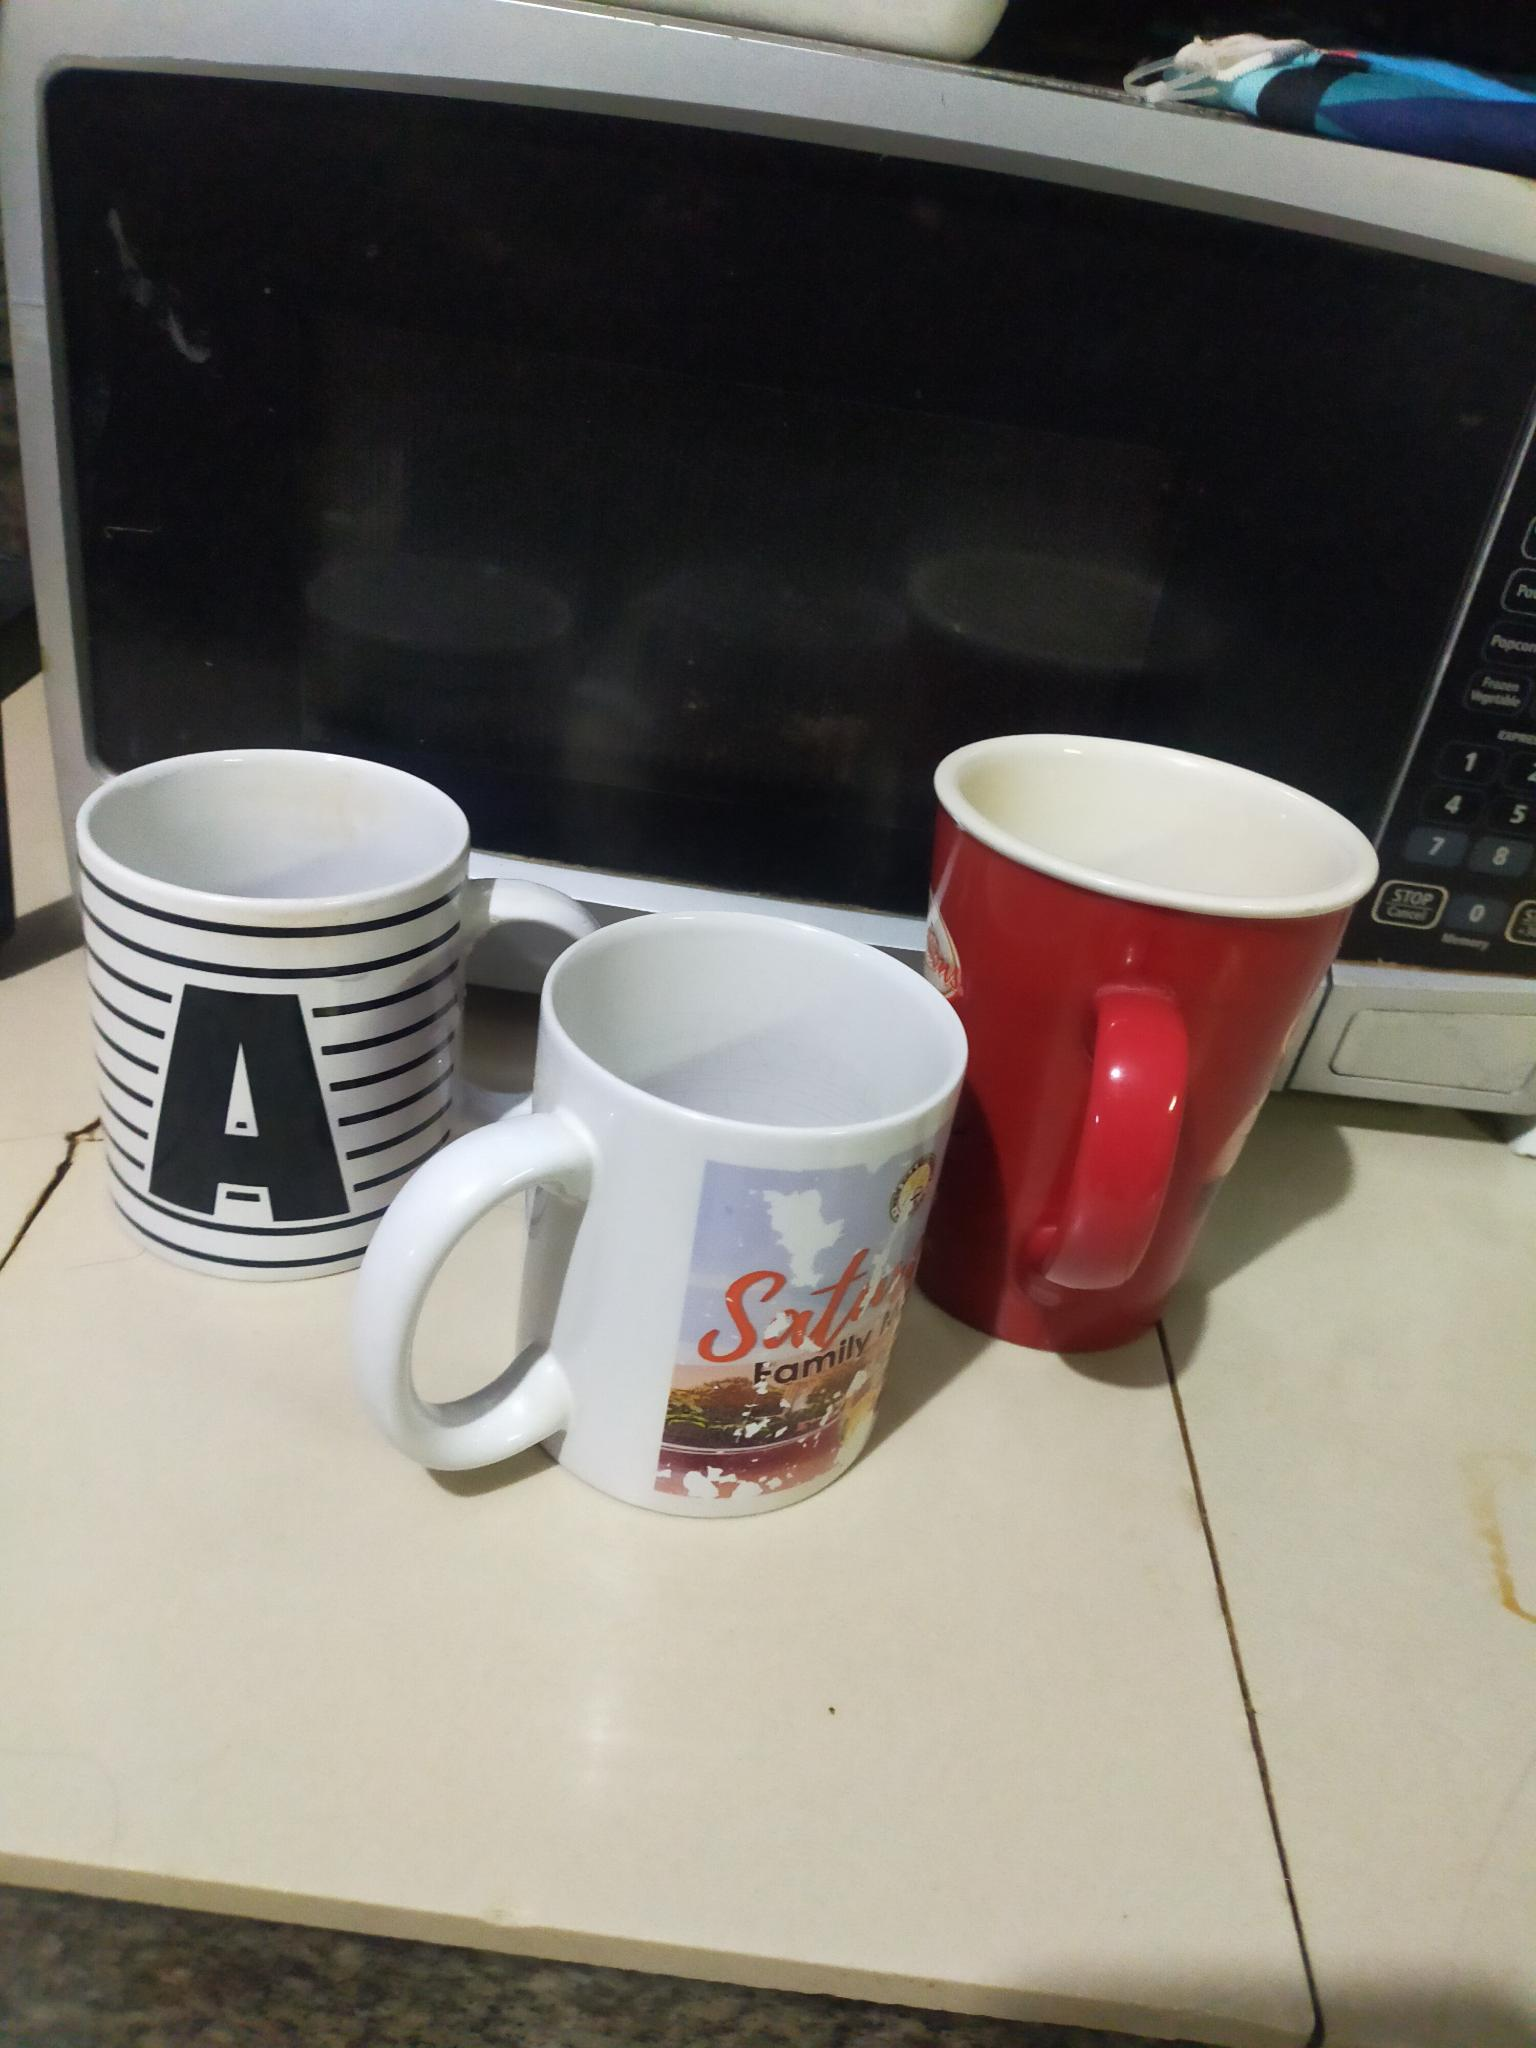Coffee Mug: (349, 905, 971, 1517), (928, 740, 1384, 1351), (82, 748, 602, 1282)
